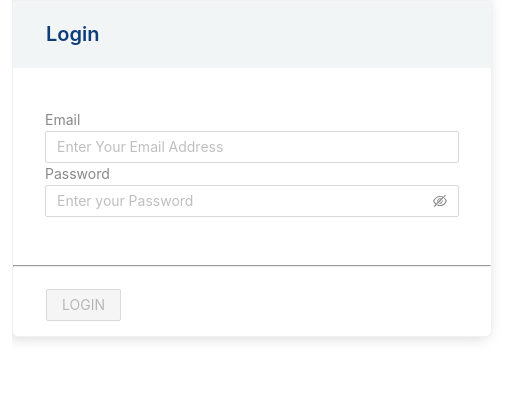
Scenario: Shows validation error for email field
Type "wrong email" into the field with test id "email-input-field" at (252, 147), box [45,131,459,163]
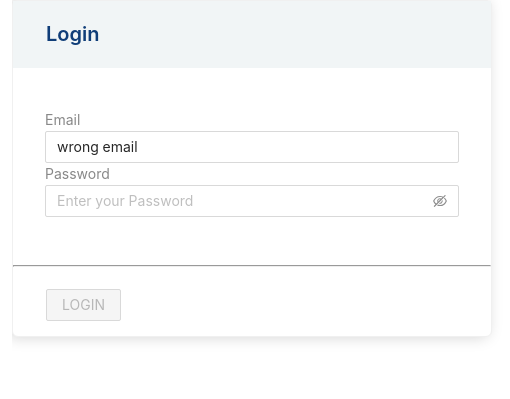
Leave the field with test id "email-input-field", box [45,131,459,163]
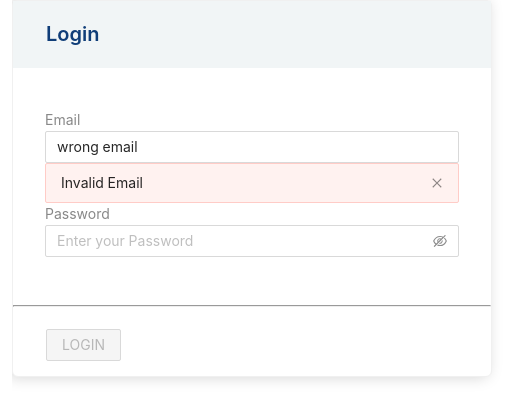
Now the text "Invalid Email" is shown, box [61,174,143,191]
Clear the field with test id "email-input-field" at (252, 147), box [45,131,459,163]
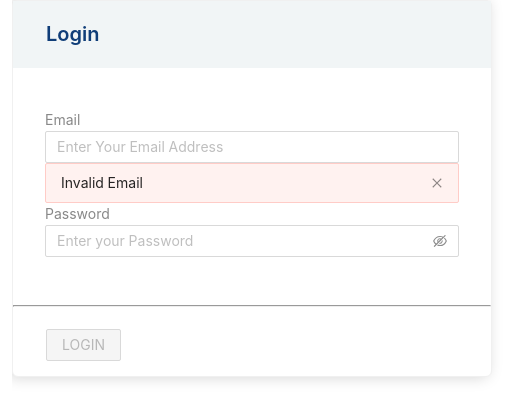
Leave the field with test id "email-input-field", box [45,131,459,163]
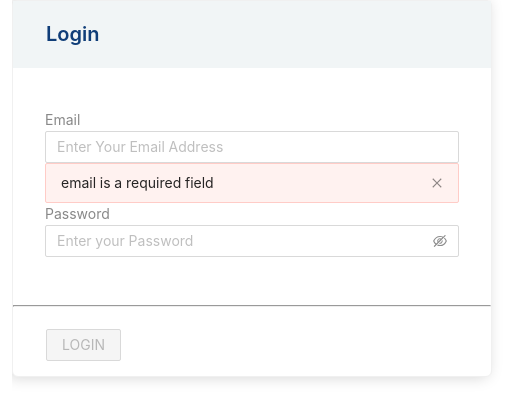
Now the text "email is a required field" is shown, box [61,174,214,191]
